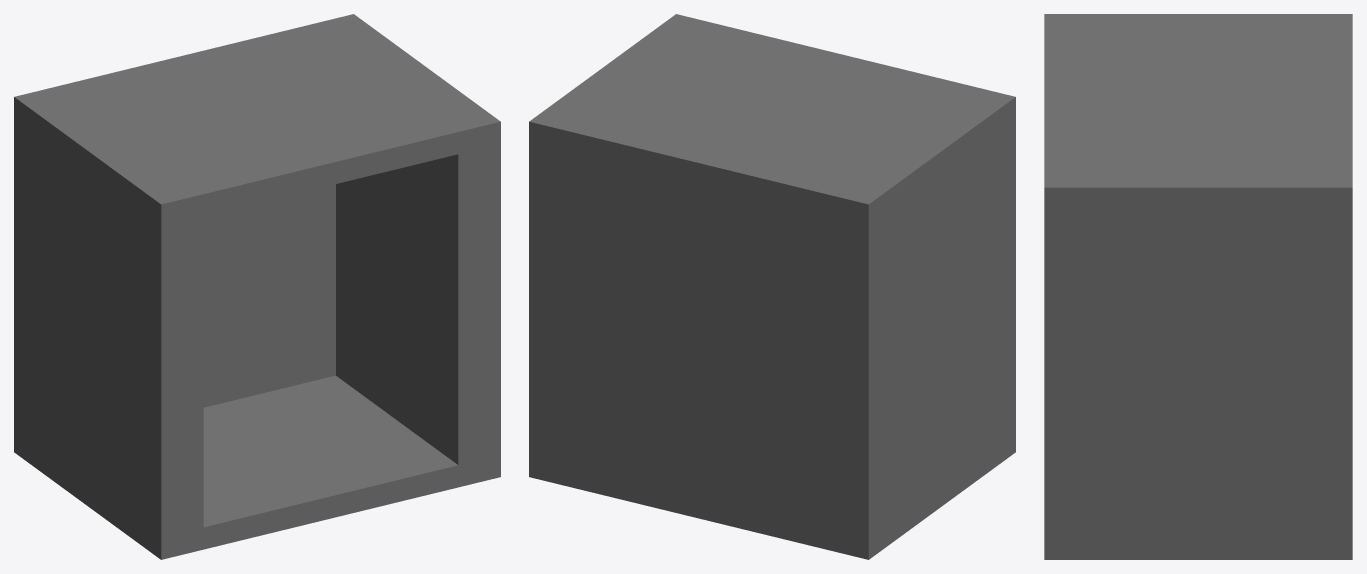
File: hole.obj
The picture shows the model from 3 angles, left to right: view 1: azimuth 30°, elevation 25°; view 2: azimuth 150°, elevation 25°; view 3: azimuth 270°, elevation 25°; orthographic projection. The views are drawn at different scales.
Parts seen in each view (by area): view 1: hole; view 2: hole; view 3: hole.
Part boxes in pixels (<box>): hole: <box>14,14,500,559</box>; hole: <box>529,14,1015,559</box>; hole: <box>1044,14,1352,559</box>.
Bounding box in the file's own units: 0.08 × 0.08 × 0.06.
Materials: 1 (1 with a texture image).
